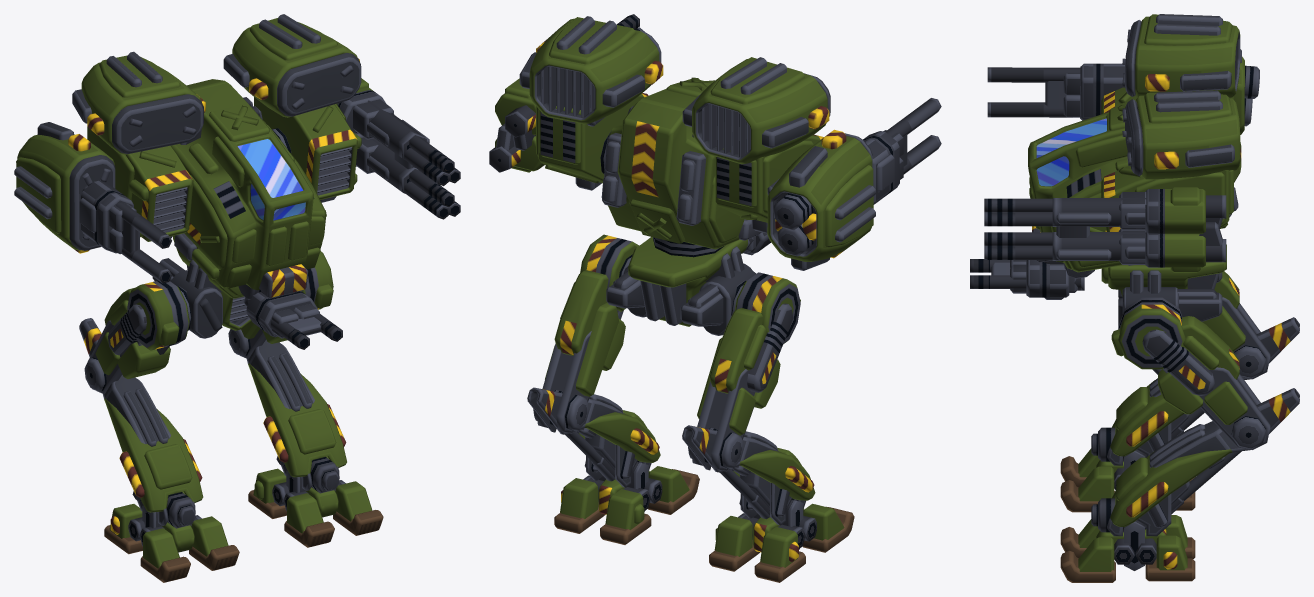
File: StaticMech_Hulk.FBX
The picture shows the model from 3 angles, left to right: view 1: azimuth 30°, elevation 25°; view 2: azimuth 150°, elevation 25°; view 3: azimuth 270°, elevation 25°; orthographic projection. The views are drawn at different scales.
Parts seen in each view (by area): view 1: Line001; view 2: Line001; view 3: Line001.
Boxes of the visible parts, x1,y1,x2,y2 form: Line001: [14, 14, 460, 582]; Line001: [489, 14, 941, 582]; Line001: [970, 14, 1299, 582].
Size of the model in its own units: 11.5 by 15.32 by 9.71.
Materials: 1 (1 with a texture image).
